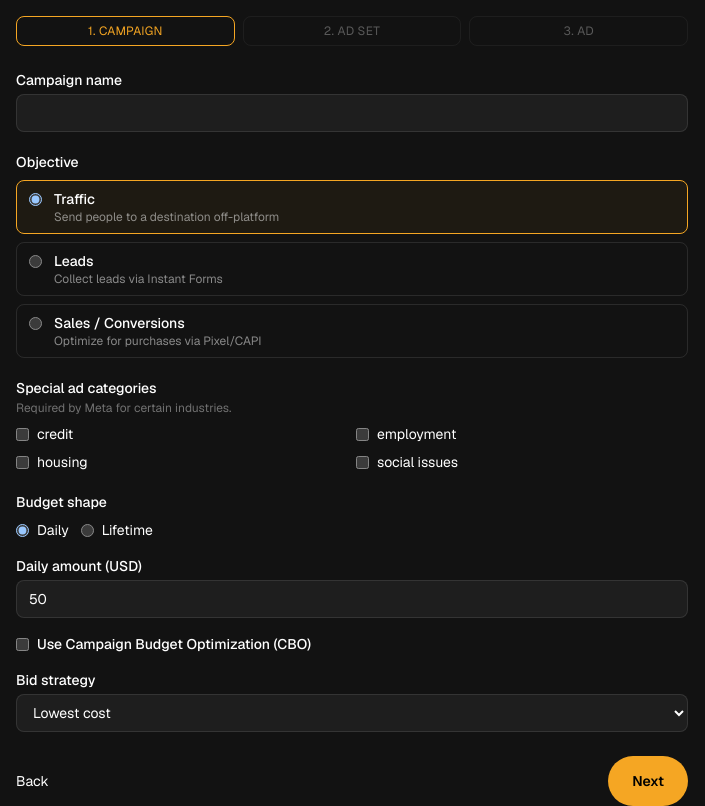
Test: CampaignBuilder › Back returns to previous step
(page scrolled)
What coordinates should you click on to do the following:
click the button "Next"
I would click on:
 (648, 781)
Its box is left=608, top=756, right=688, bottom=805.
(page scrolled)
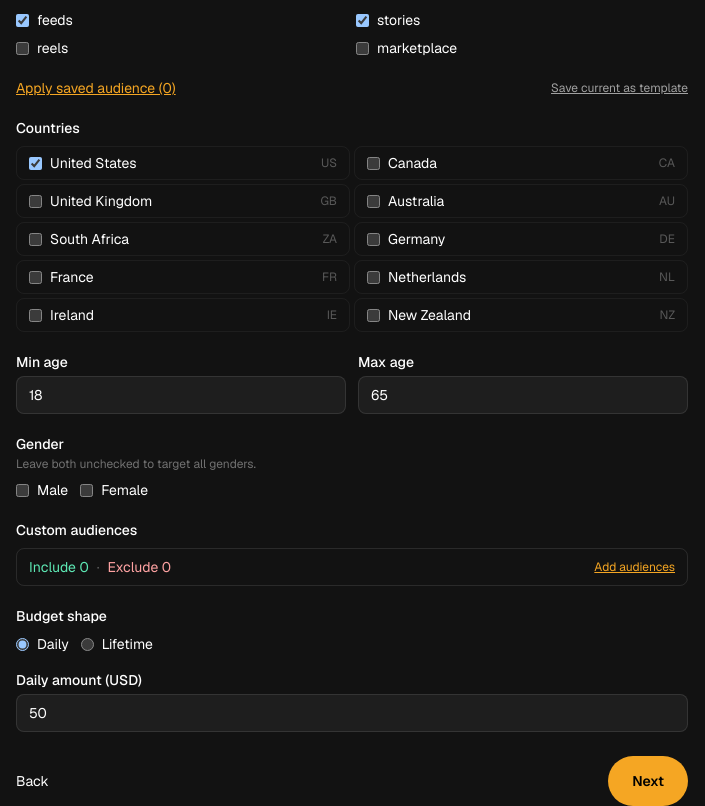
What coordinates should you click on to do the following:
click the button "Back"
I would click on:
 (32, 781)
Its box is left=16, top=756, right=49, bottom=805.
(page scrolled)
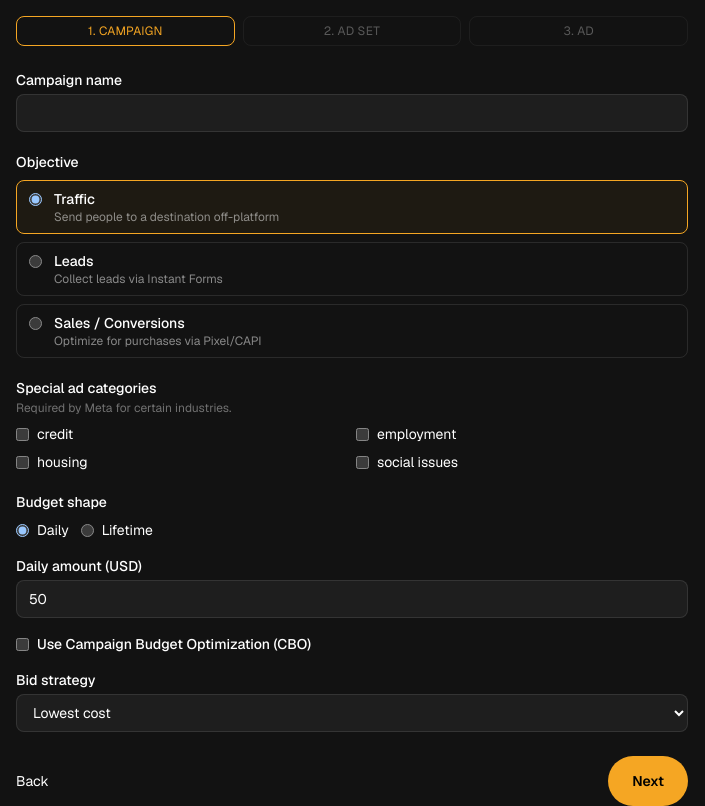
Now the field labelled "Campaign name" is shown, box left=16, top=94, right=688, bottom=132
